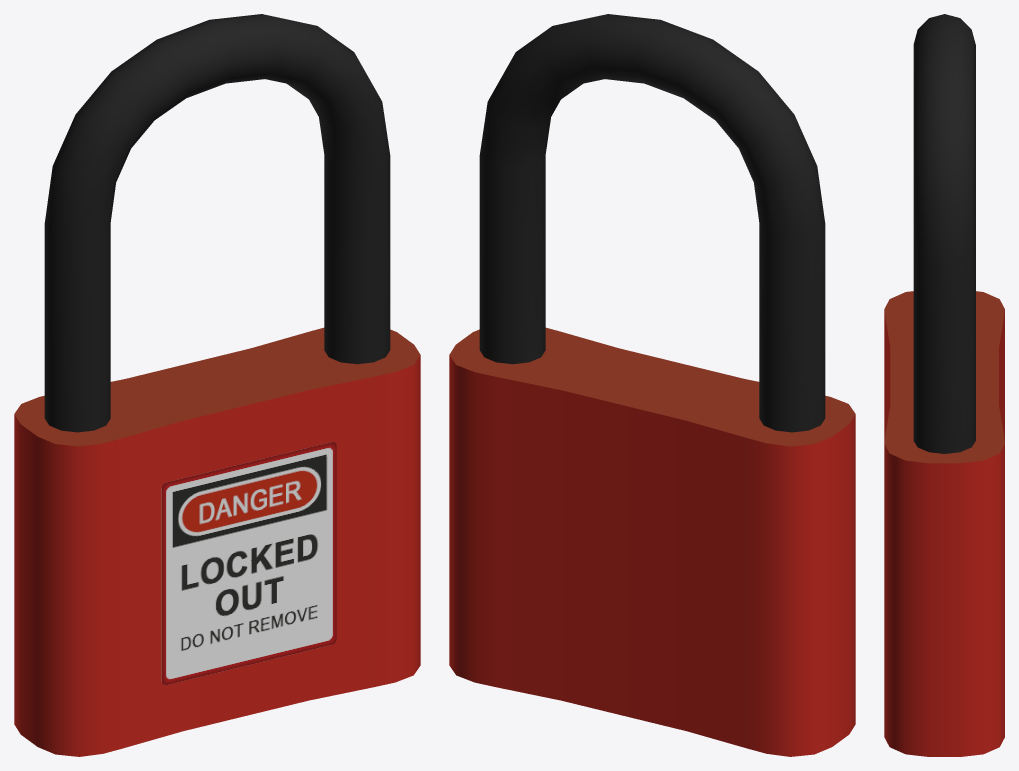
The model's file is lock.fbx.
The picture shows the model from 3 angles, left to right: view 1: azimuth 30°, elevation 25°; view 2: azimuth 150°, elevation 25°; view 3: azimuth 270°, elevation 25°; orthographic projection. The views are drawn at different scales.
Visible parts, largest first — view 1: lower_low, Upper_low, pad lock texture; view 2: lower_low, Upper_low; view 3: lower_low, Upper_low.
Boxes of the visible parts, x1,y1,x2,y2 form: lower_low: (14, 327, 420, 756); Upper_low: (44, 14, 390, 432); pad lock texture: (161, 442, 336, 684); lower_low: (449, 327, 855, 756); Upper_low: (479, 14, 825, 432); lower_low: (884, 291, 1004, 756); Upper_low: (913, 14, 975, 453).
Bounding box in the file's own units: 13.2 × 22.55 × 3.88.
Materials: 4 (1 with a texture image).
